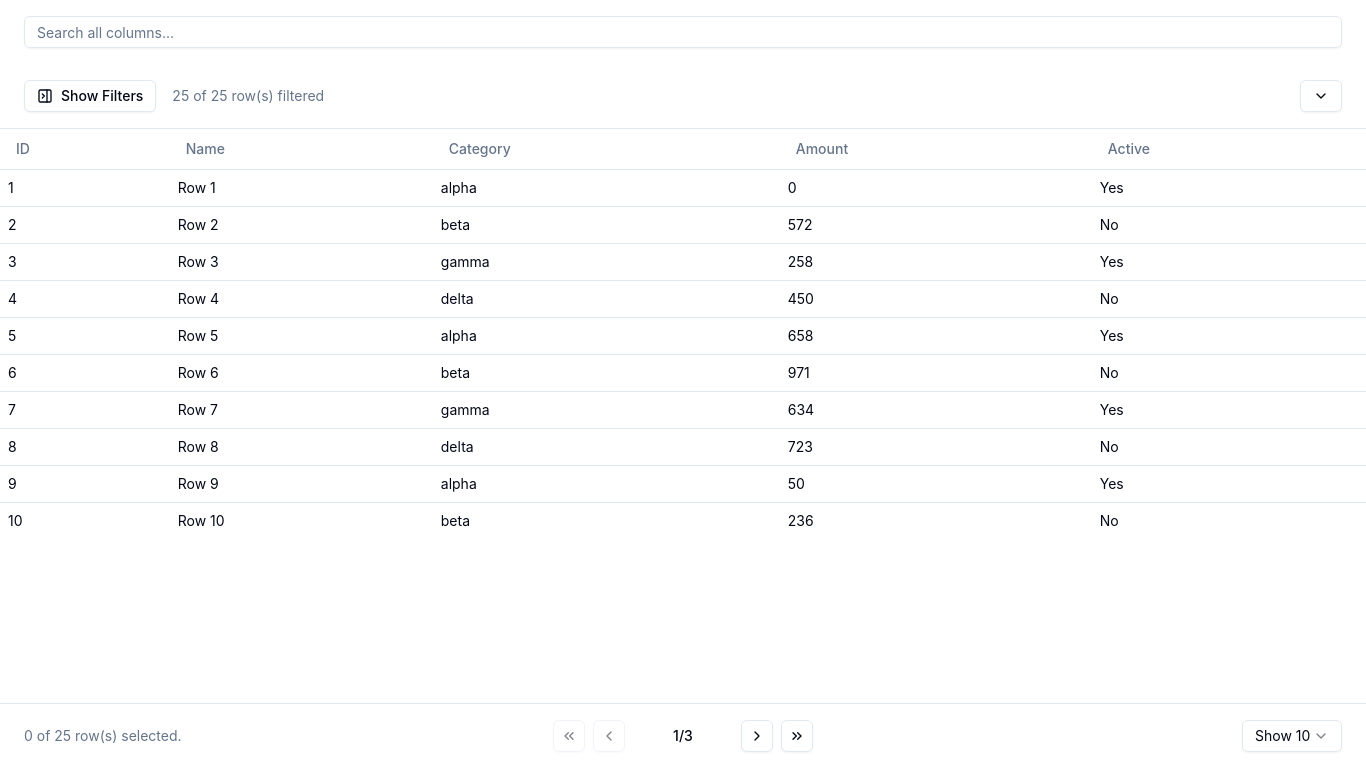
DataGrid filter sidebar accessibility › provides aria attributes on toggle & complementary region
This screenshot has width=1366, height=768.
Click the button "Show Filters". click: click(90, 96)
box: [24,80,156,112]
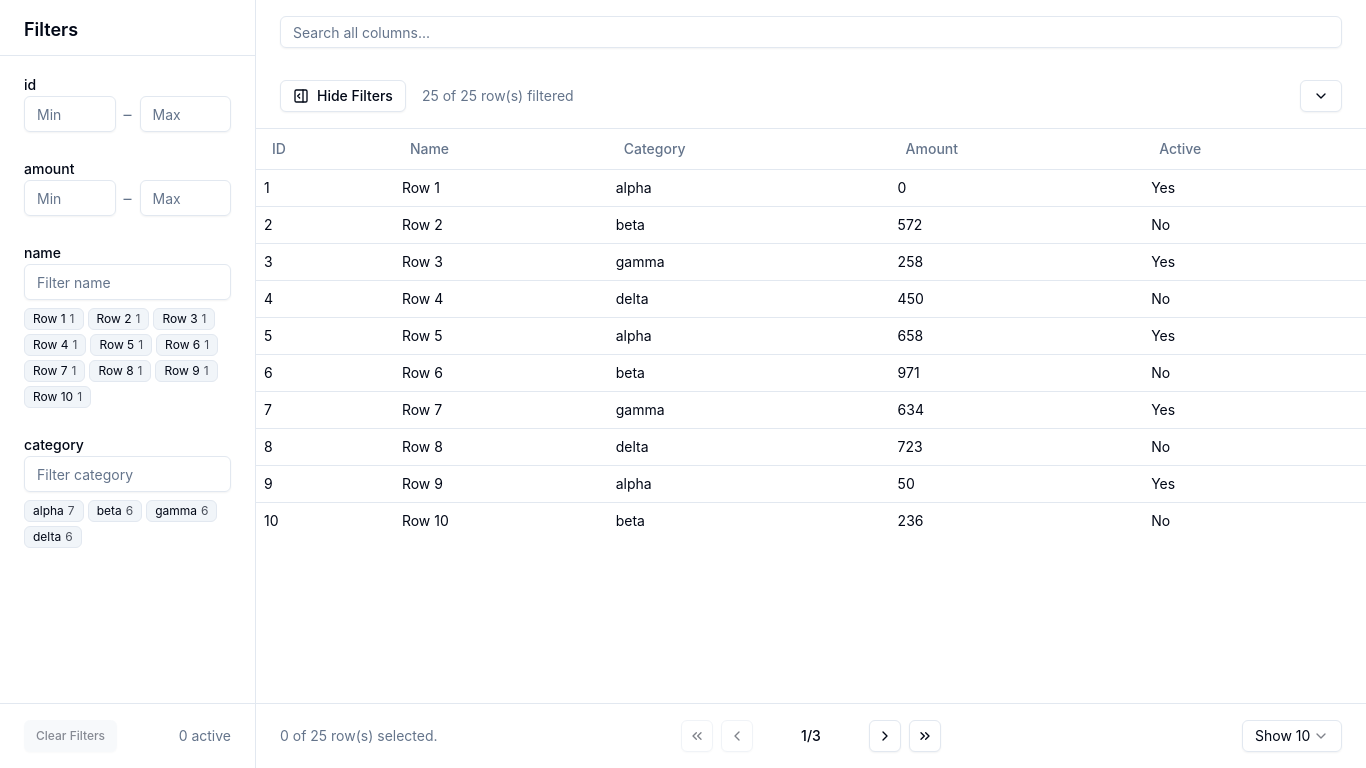
Expected: the button "Hide Filters" is expanded
Click the button labelled "Hide Filters". click: click(343, 96)
box: [280,80,406,112]
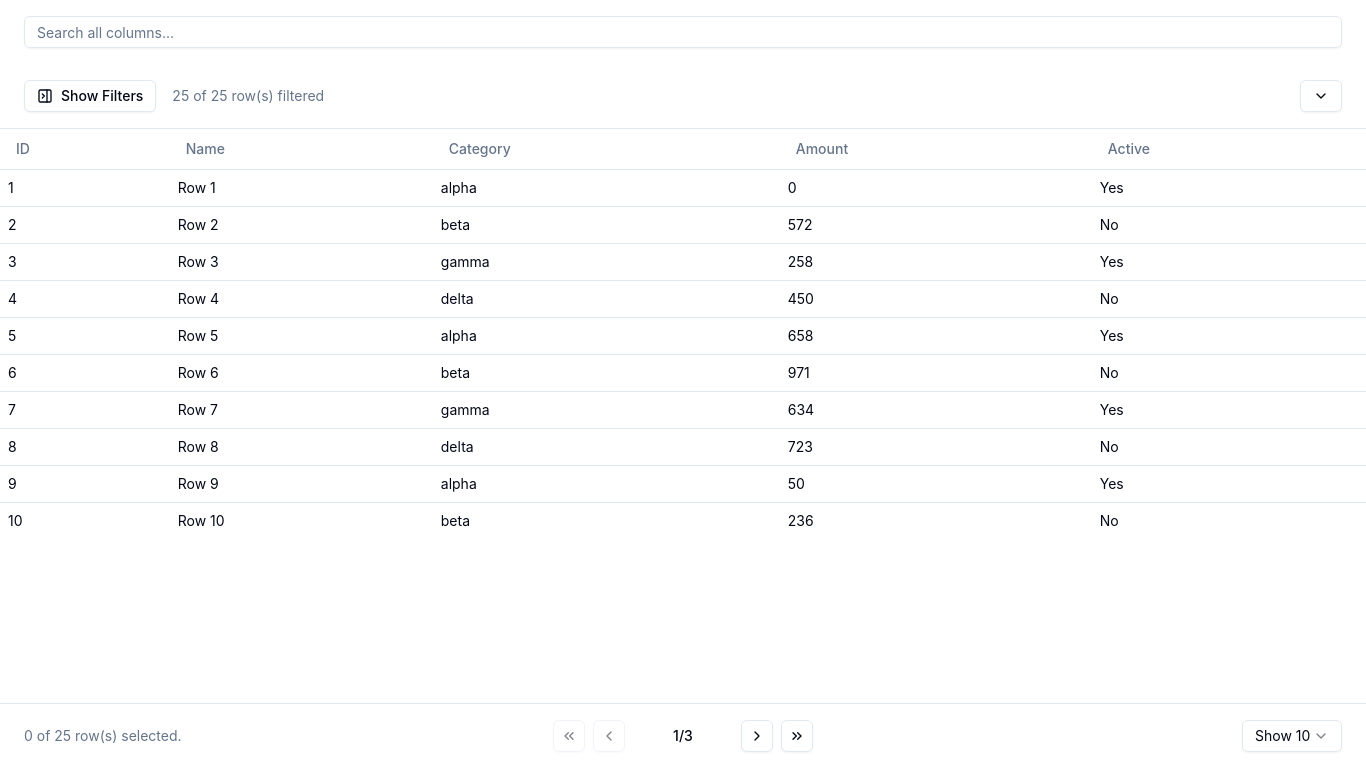
Expected: the button labelled "Show Filters" is collapsed, [24,80,156,112]
